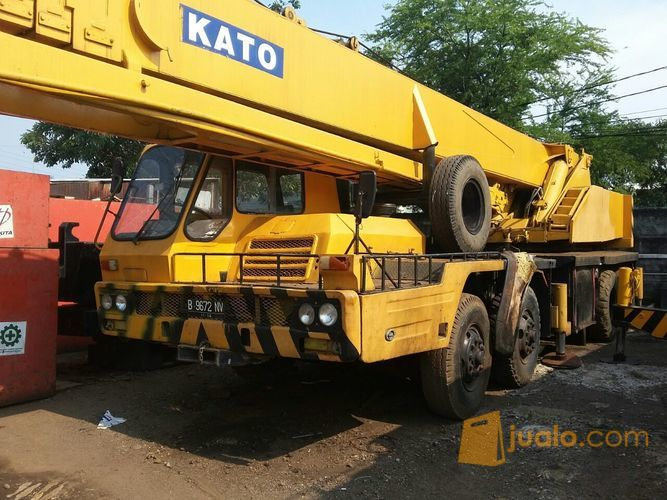crane: (1, 1, 640, 420)
